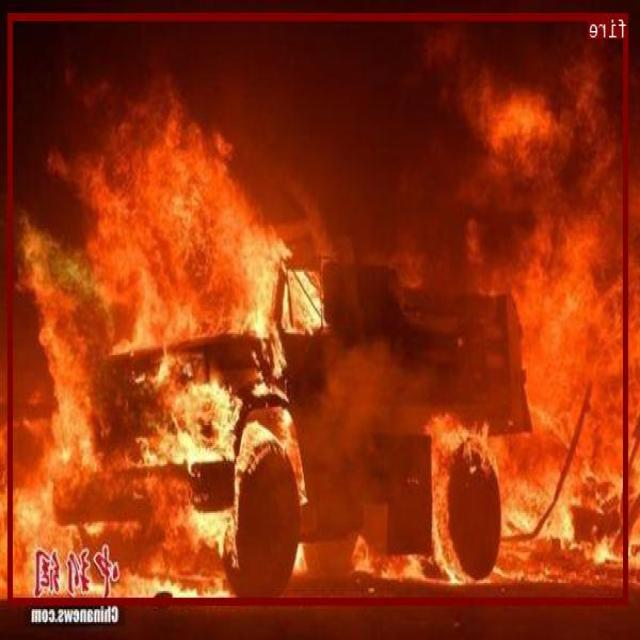fire: (9, 12, 628, 604)
